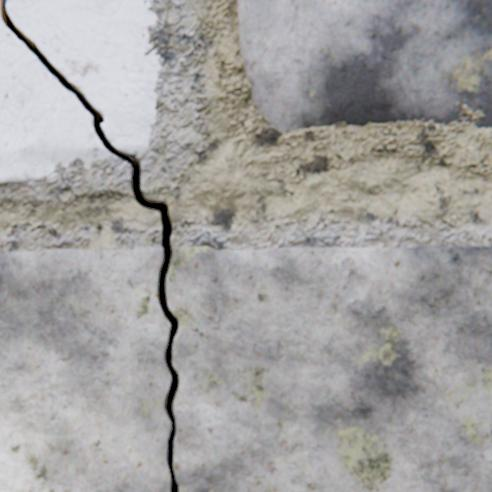brick: (236, 0, 491, 132), (464, 117, 470, 122)
broken_brick: (166, 246, 491, 491), (0, 247, 170, 491), (7, 0, 160, 158), (0, 16, 117, 184)
crack: (0, 0, 178, 491)
